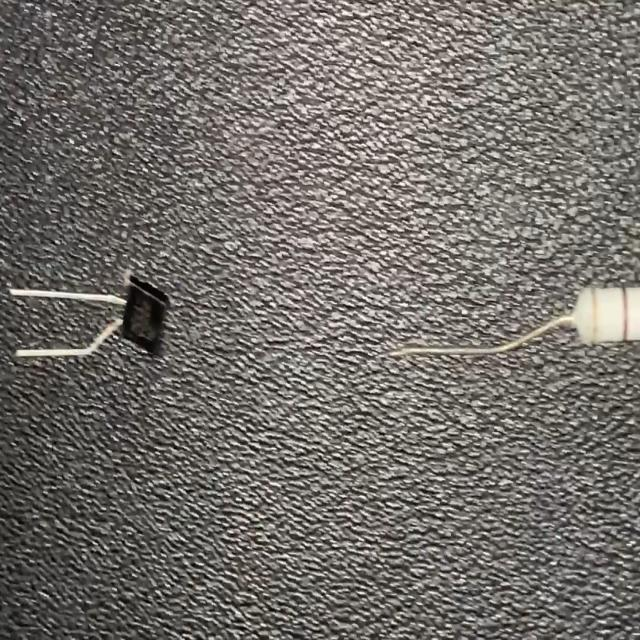missing-leg: (9, 264, 170, 365)
resistor: (376, 280, 640, 370)
